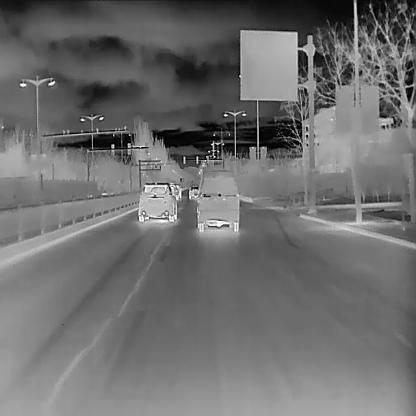car: (192, 169, 240, 232), (136, 180, 177, 222), (167, 182, 179, 200), (188, 185, 199, 199), (174, 183, 182, 198)
